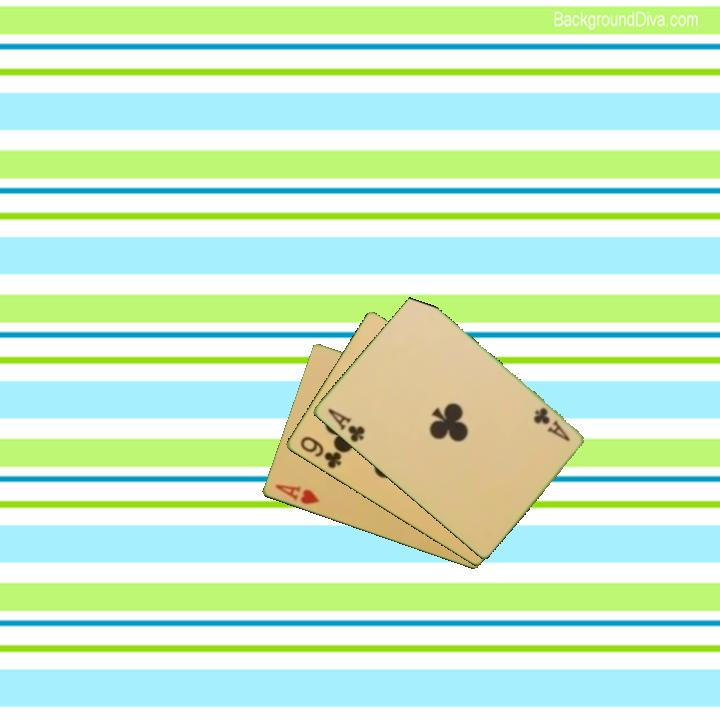9c: (296, 433, 344, 472)
Ac: (529, 404, 573, 444), (324, 405, 367, 445)
Ah: (272, 481, 322, 508)
